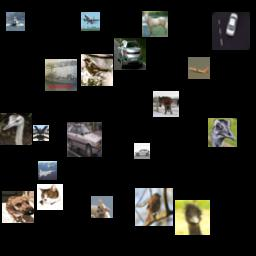airplane: (188, 57, 210, 79), (38, 161, 57, 180), (81, 12, 100, 31), (33, 125, 49, 141)
automobile: (212, 12, 250, 50), (67, 122, 102, 157), (114, 38, 146, 70), (134, 143, 150, 159)
bird: (135, 188, 173, 226), (175, 200, 210, 235), (81, 54, 113, 86), (0, 113, 32, 145), (208, 118, 237, 147)
cat: (37, 184, 63, 210)
dog: (2, 191, 34, 223), (91, 196, 113, 218)
ship: (45, 59, 77, 91), (6, 12, 25, 31)
